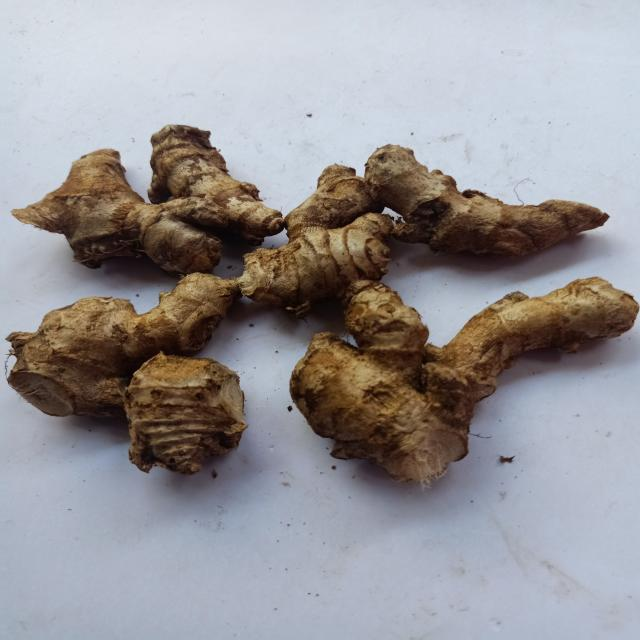Ginger: (290, 277, 639, 484), (5, 273, 240, 418), (365, 144, 609, 256), (11, 149, 227, 275), (238, 164, 393, 318), (123, 353, 247, 475)
